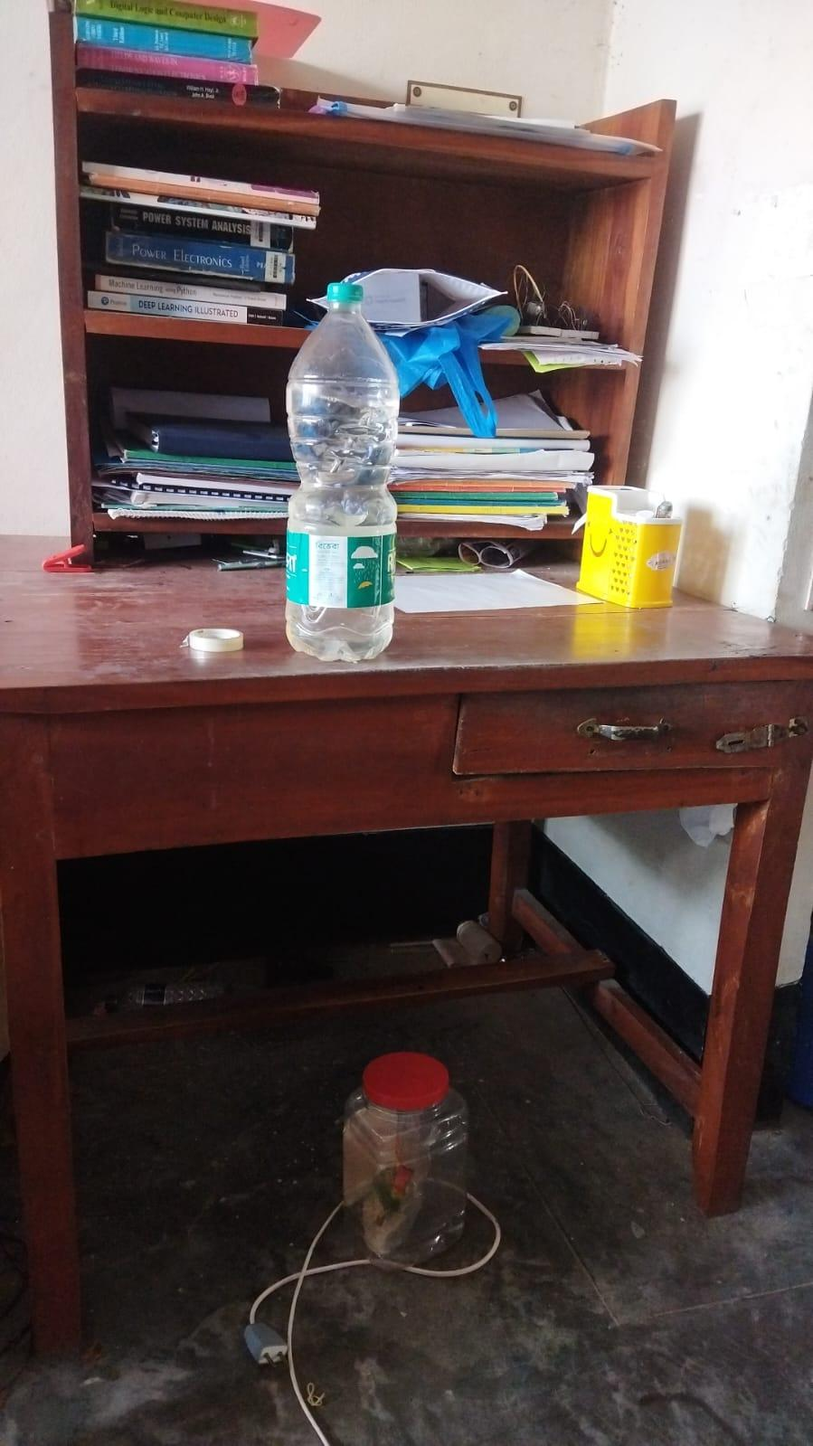Book: (80, 136, 285, 336), (76, 365, 290, 552), (397, 384, 588, 569), (53, 0, 292, 97)
Bottle: (275, 269, 401, 661)
Drawer: (420, 690, 802, 785)
Jar: (330, 1051, 479, 1274)
Pen Stand: (569, 472, 695, 619)
Table: (19, 500, 813, 1358)
